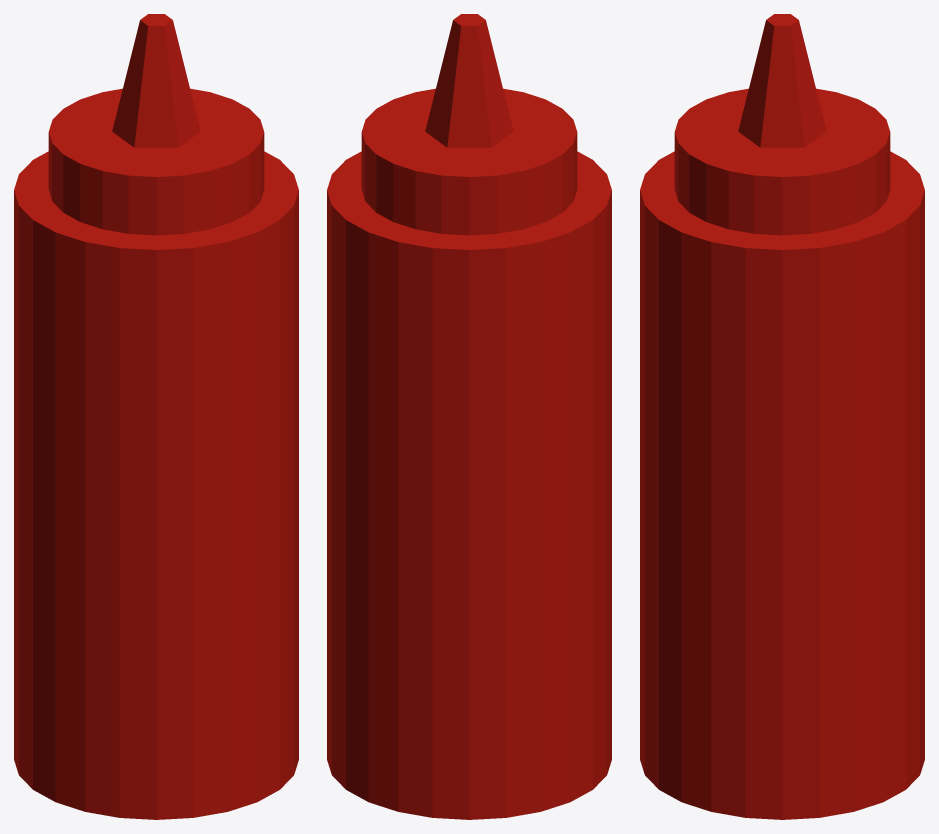
The model's file is Sauce Bottle 1.obj.
3 renders of one model, left to right at view 1: azimuth 30°, elevation 25°; view 2: azimuth 150°, elevation 25°; view 3: azimuth 270°, elevation 25°, orthographic.
Parts seen in each view (by area): view 1: Sauce_Bottle_1; view 2: Sauce_Bottle_1; view 3: Sauce_Bottle_1.
Boxes of the visible parts, left/top/right/bottom form: Sauce_Bottle_1: left=14, top=14, right=298, bottom=819; Sauce_Bottle_1: left=327, top=14, right=611, bottom=819; Sauce_Bottle_1: left=640, top=14, right=924, bottom=819.
Bounding box in the file's own units: 0.3 × 0.8595 × 0.3.
